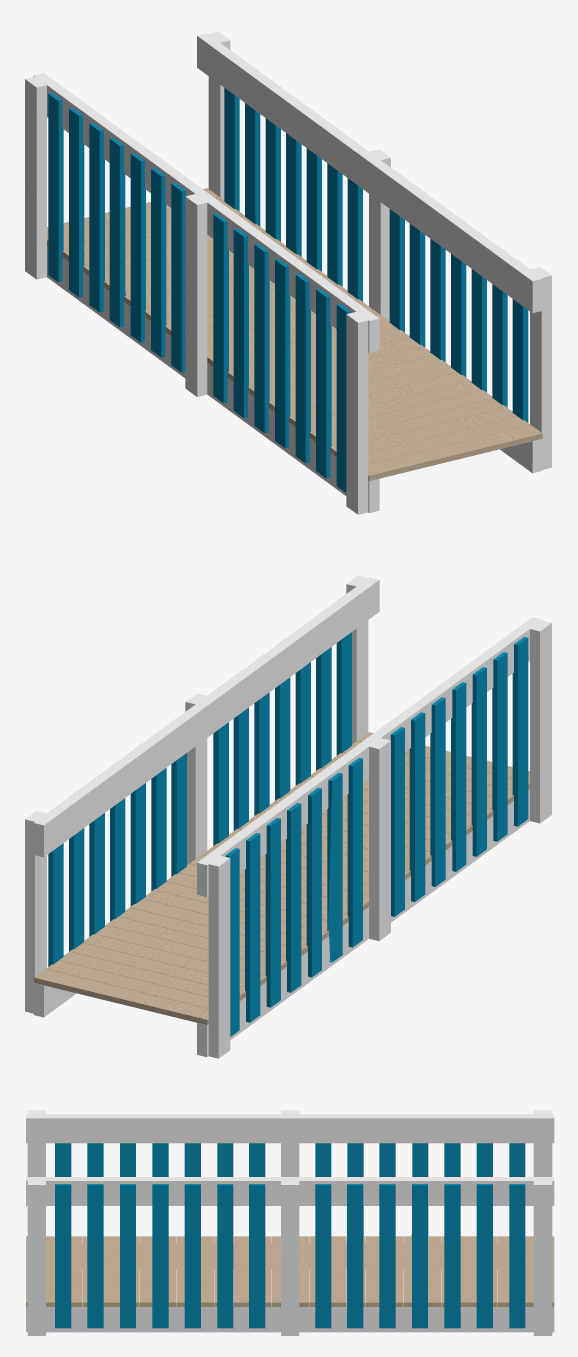
File: Bridge.248e014c.glb
3 renders of one model, top to bottom at view 1: azimuth 30°, elevation 25°; view 2: azimuth 150°, elevation 25°; view 3: azimuth 270°, elevation 25°, orthographic. The views are drawn at different scales.
Parts seen in each view (by area): view 1: Cube188, Cube188_1, Cube117,_colorize_.017, Cube117,_colorize_.016, Cube117,_colorize_.018, Cube117,_colorize_.022, Cube117,_colorize_.014, Cube117,_colorize_.019, Cube117,_colorize_.021, Cube117,_colorize_.023, Cube117,_colorize_.025, Cube117,_colorize_.026 (+18 smaller); view 2: Cube188, Cube188_1, Cube117,_colorize_.022, Cube117,_colorize_.027, Cube117,_colorize_.023, Cube117,_colorize_.024, Cube117,_colorize_.026, Cube117,_colorize_.015, Cube117,_colorize_.016, Cube117,_colorize_.017, Cube117,_colorize_.025, Cube117,_colorize_.020 (+18 smaller); view 3: Cube188, Cube188_1, Cube117,_colorize_.001, Cube117,_colorize_.003, Cube117,_colorize_.009, Cube117,_colorize_.011, Cube117,_colorize_.004, Cube117,_colorize_.005, Cube117,_colorize_.006, Cube117,_colorize_.007, Cube117,_colorize_.008, Cube117,_colorize_.012 (+18 smaller).
Part boxes in pixels (x1,y1,x2,y2): Cube188: [25, 31, 551, 514]; Cube188_1: [47, 188, 542, 480]; Cube117,_colorize_.017: [109, 137, 125, 327]; Cube117,_colorize_.016: [89, 123, 104, 312]; Cube117,_colorize_.018: [130, 153, 145, 342]; Cube117,_colorize_.022: [233, 228, 248, 418]; Cube117,_colorize_.014: [48, 92, 63, 282]; Cube117,_colorize_.019: [151, 168, 166, 357]; Cube117,_colorize_.021: [213, 213, 228, 403]; Cube117,_colorize_.023: [254, 243, 269, 433]; Cube117,_colorize_.025: [295, 273, 310, 463]; Cube117,_colorize_.026: [316, 289, 331, 478]; Cube188: [25, 575, 551, 1058]; Cube188_1: [34, 732, 529, 1024]; Cube117,_colorize_.022: [409, 712, 425, 901]; Cube117,_colorize_.027: [512, 637, 528, 826]; Cube117,_colorize_.023: [430, 697, 445, 886]; Cube117,_colorize_.024: [451, 682, 466, 871]; Cube117,_colorize_.026: [492, 652, 507, 841]; Cube117,_colorize_.015: [245, 833, 260, 1022]; Cube117,_colorize_.016: [265, 818, 280, 1007]; Cube117,_colorize_.017: [286, 803, 301, 992]; Cube117,_colorize_.025: [471, 667, 486, 856]; Cube117,_colorize_.020: [347, 758, 362, 947]; Cube188: [26, 1110, 554, 1335]; Cube188_1: [26, 1236, 554, 1306]; Cube117,_colorize_.001: [87, 1184, 103, 1328]; Cube117,_colorize_.003: [152, 1184, 168, 1328]; Cube117,_colorize_.009: [379, 1184, 395, 1328]; Cube117,_colorize_.011: [444, 1184, 460, 1328]; Cube117,_colorize_.004: [184, 1184, 200, 1328]; Cube117,_colorize_.005: [217, 1184, 233, 1328]; Cube117,_colorize_.006: [249, 1184, 265, 1328]; Cube117,_colorize_.007: [315, 1184, 331, 1328]; Cube117,_colorize_.008: [347, 1184, 363, 1328]; Cube117,_colorize_.012: [476, 1184, 492, 1328].
Bounding box in the file's own units: 1 × 1 × 3.01.
Materials: 5 (1 with a texture image).
